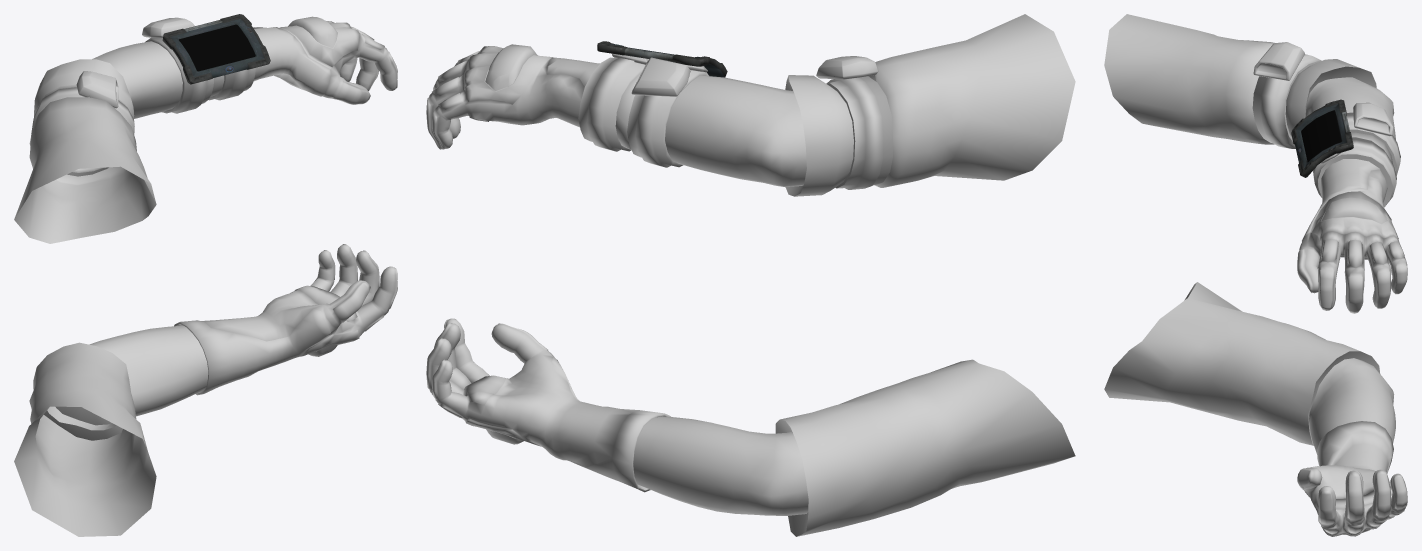
The model's file is c_mul_mp_pmc_shortsleeve_viewhands_LOD0.obj.
The picture shows the model from 3 angles, left to right: view 1: azimuth 30°, elevation 25°; view 2: azimuth 150°, elevation 25°; view 3: azimuth 270°, elevation 25°; orthographic projection. The views are drawn at different scales.
Parts seen in each view (by area): view 1: mtl_viewarm_mul_mp_pmc_shortsleeve, mtl_viewarm_gen_datapad, mtl_viewarm_watchglass; view 2: mtl_viewarm_mul_mp_pmc_shortsleeve, mtl_viewarm_gen_datapad; view 3: mtl_viewarm_mul_mp_pmc_shortsleeve, mtl_viewarm_gen_datapad, mtl_viewarm_watchglass.
Part boxes in pixels (left/top/right/bottom): mtl_viewarm_mul_mp_pmc_shortsleeve: left=14, top=16, right=397, bottom=536; mtl_viewarm_gen_datapad: left=162, top=14, right=270, bottom=84; mtl_viewarm_watchglass: left=179, top=24, right=255, bottom=71; mtl_viewarm_mul_mp_pmc_shortsleeve: left=426, top=14, right=1075, bottom=536; mtl_viewarm_gen_datapad: left=597, top=41, right=727, bottom=77; mtl_viewarm_mul_mp_pmc_shortsleeve: left=1104, top=14, right=1407, bottom=536; mtl_viewarm_gen_datapad: left=1291, top=99, right=1353, bottom=177; mtl_viewarm_watchglass: left=1301, top=110, right=1341, bottom=162.
Size of the model in its own units: 68.67 by 56.55 by 39.85.
